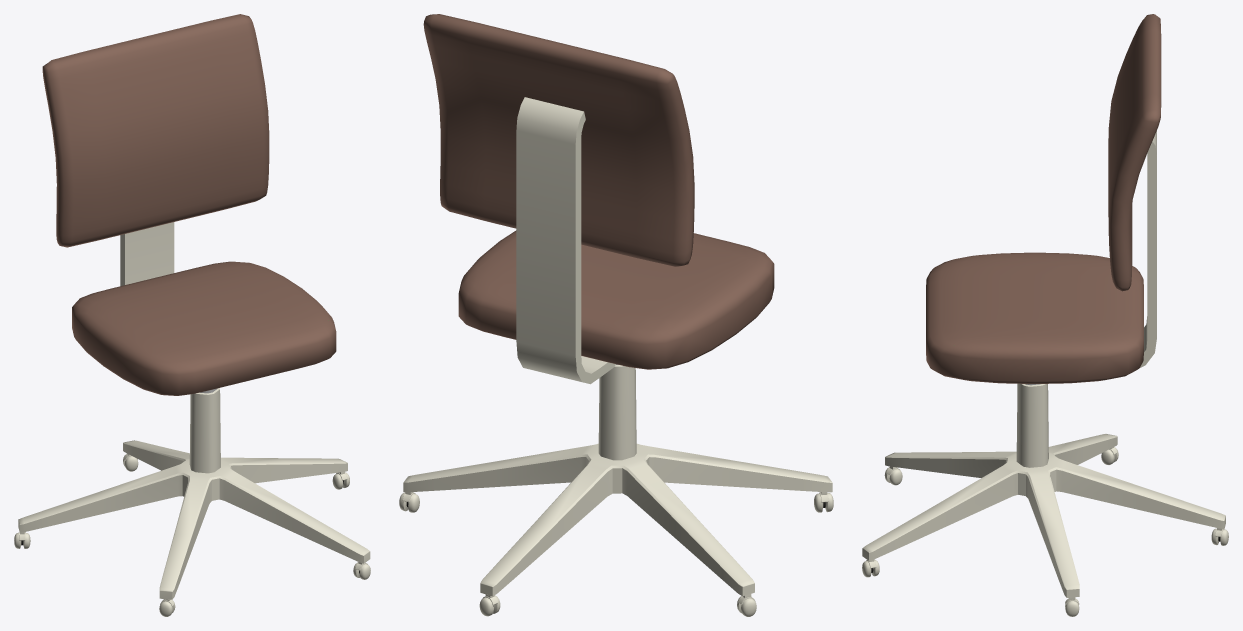
The model's file is OfficeChair.glb.
3 renders of one model, left to right at view 1: azimuth 30°, elevation 25°; view 2: azimuth 150°, elevation 25°; view 3: azimuth 270°, elevation 25°, orthographic. The views are drawn at different scales.
Visible parts, largest first — view 1: Office Chair; view 2: Office Chair; view 3: Office Chair.
Part boxes in pixels (bbox=[...]): Office Chair: bbox=[14, 14, 370, 616]; Office Chair: bbox=[399, 14, 833, 616]; Office Chair: bbox=[862, 14, 1228, 616].
Bounding box in the file's own units: 0.845 × 1.18 × 0.8243.
1 material, 1 textured.
